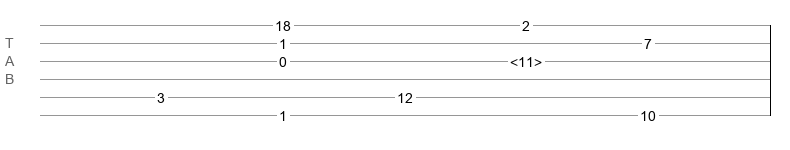0: (279, 54, 287, 64)
1: (279, 108, 287, 118), (279, 36, 287, 46)
10: (640, 108, 656, 118)
12: (397, 90, 413, 100)
18: (275, 18, 291, 28)
2: (522, 18, 530, 28)
3: (157, 90, 165, 100)
7: (644, 36, 652, 46)
harmonic: (510, 54, 542, 64)
